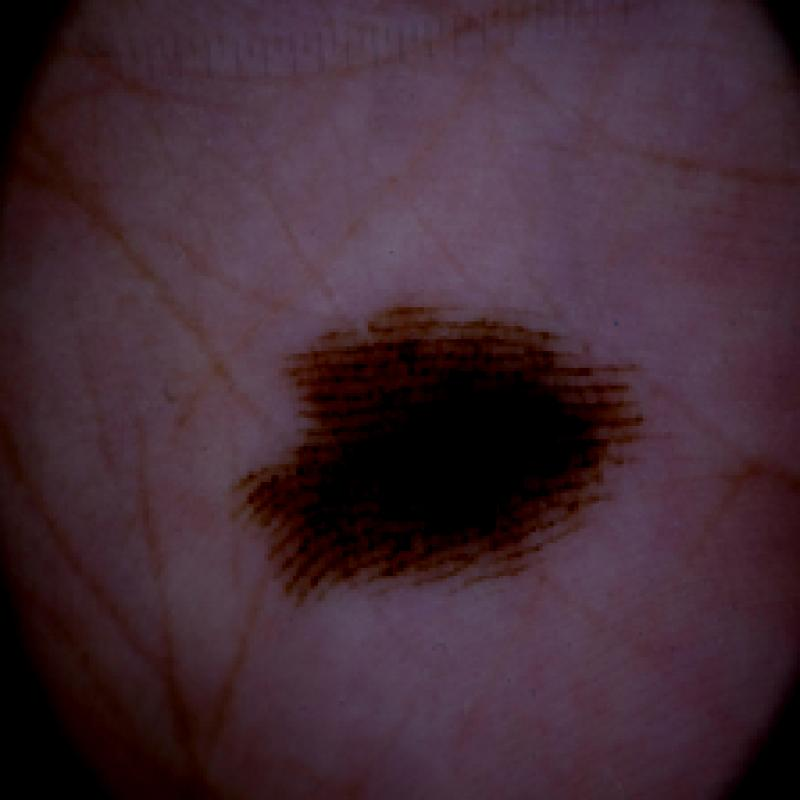benign: (222, 283, 659, 615)
